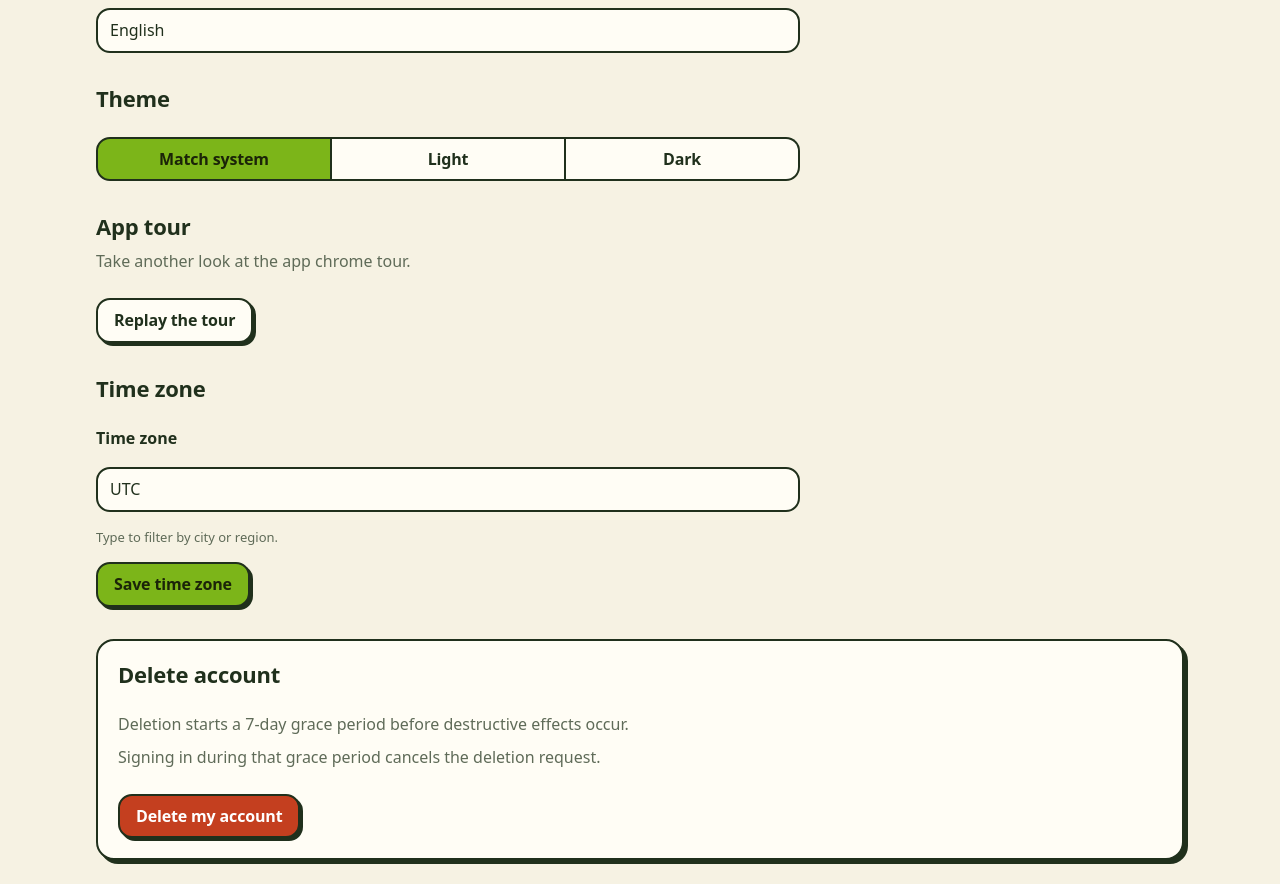
Test: DeleteAccount › states the seven-day grace and login-cancels rule before confirming_D148_D158
(page scrolled)
Click the button "Delete my account": coordinates (209, 816) 118,794 -> 300,838
(page scrolled)
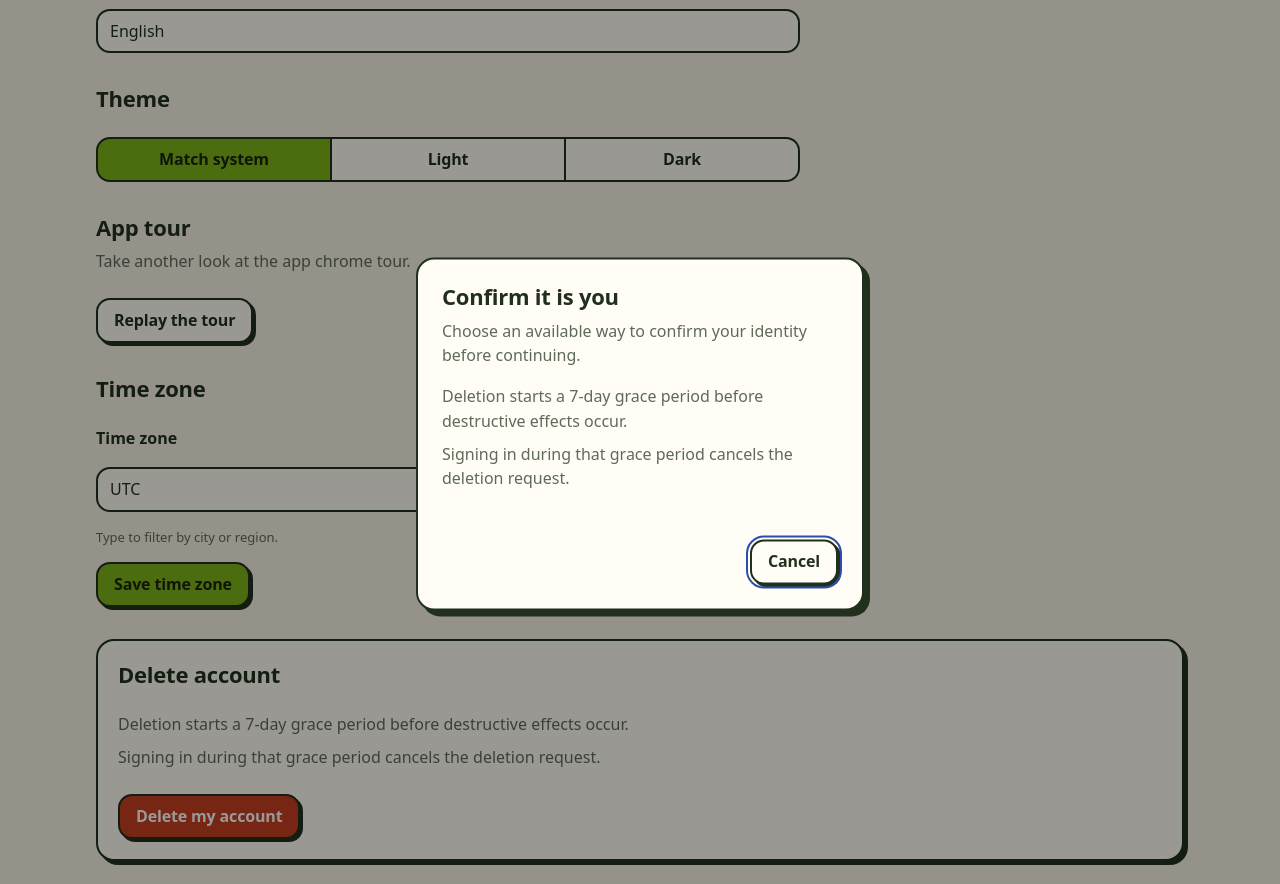
Check: the dialog shows "Deletion starts a 7-day grace period before destructive effects occur.", box 442,386 -> 763,432
Check: the dialog shows "Signing in during that grace period cancels the deletion request.", box 442,443 -> 793,490
